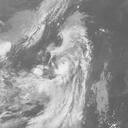cyclone: (28, 48, 82, 101)
